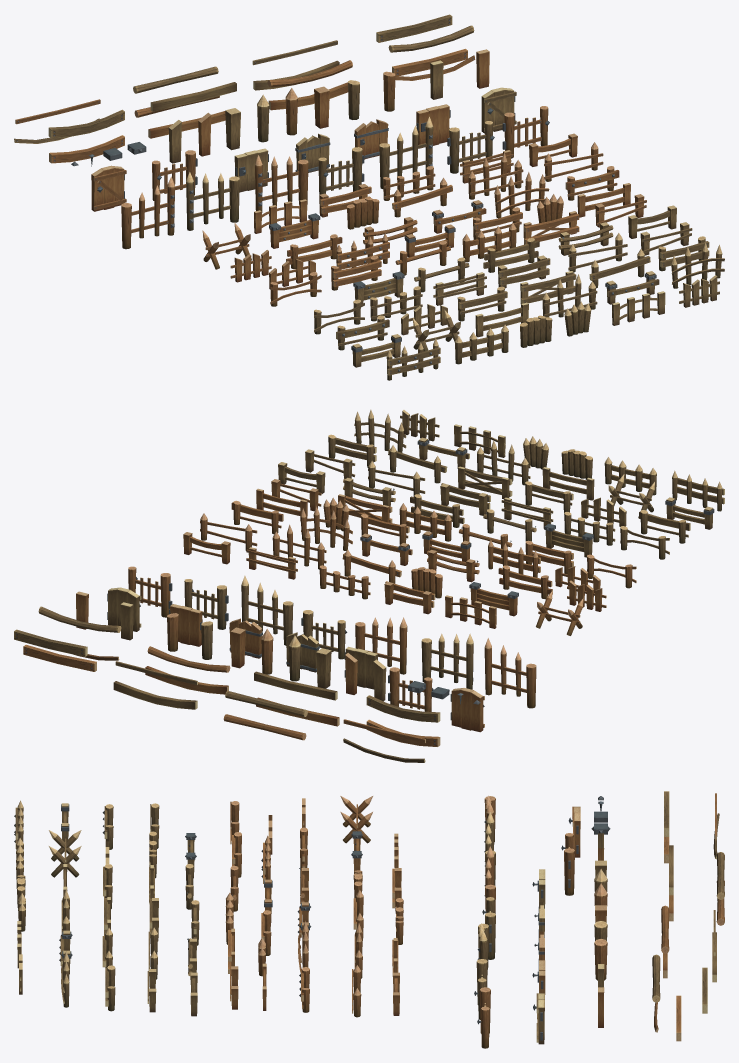
The model's file is Wooden.fbx.
3 renders of one model, top to bottom at view 1: azimuth 30°, elevation 25°; view 2: azimuth 150°, elevation 25°; view 3: azimuth 270°, elevation 25°, orthographic. The views are drawn at different scales.
Parts seen in each view (by area): view 1: 035_0_35, 026_0_26, 036_0_36, 039_0_39, 032_0_32, 037_0_37, 028_0_28, 027_0_27, 031_0_31, 044_0_44, 002_0_2, 033_0_33 (+67 smaller); view 2: 035_0_35, 026_0_26, 039_0_39, 036_0_36, 032_0_32, 028_0_28, 037_0_37, 044_0_44, 038_0_38, 033_0_33, 027_0_27, 051_0_51 (+70 smaller); view 3: 042_0_42, 043_0_43, 038_0_38, 037_0_37, 027_0_27, 036_0_36, 031_0_31, 017_0_17, 056_0_56, 032_0_32, 028_0_28, 026_0_26 (+1 smaller).
Part boxes in pixels (x1=…): 035_0_35: x1=121, y1=176, x2=174, y2=249; 026_0_26: x1=186, y1=172, x2=239, y2=230; 036_0_36: x1=255, y1=155, x2=308, y2=212; 039_0_39: x1=379, y1=116, x2=433, y2=188; 032_0_32: x1=91, y1=165, x2=126, y2=211; 037_0_37: x1=502, y1=106, x2=549, y2=158; 028_0_28: x1=447, y1=121, x2=494, y2=173; 027_0_27: x1=318, y1=147, x2=364, y2=194; 031_0_31: x1=481, y1=87, x2=516, y2=133; 044_0_44: x1=386, y1=338, x2=440, y2=380; 002_0_2: x1=455, y1=324, x2=508, y2=364; 033_0_33: x1=416, y1=104, x2=450, y2=148; 035_0_35: x1=484, y1=638, x2=536, y2=708; 026_0_26: x1=421, y1=633, x2=473, y2=689; 039_0_39: x1=241, y1=575, x2=293, y2=645; 036_0_36: x1=355, y1=617, x2=407, y2=674; 032_0_32: x1=450, y1=688, x2=484, y2=732; 028_0_28: x1=184, y1=579, x2=228, y2=629; 037_0_37: x1=128, y1=566, x2=172, y2=617; 044_0_44: x1=672, y1=470, x2=724, y2=511; 038_0_38: x1=388, y1=667, x2=433, y2=711; 033_0_33: x1=169, y1=604, x2=202, y2=646; 027_0_27: x1=301, y1=610, x2=347, y2=659; 051_0_51: x1=488, y1=539, x2=540, y2=577; 042_0_42: x1=49, y1=830, x2=81, y2=877; 043_0_43: x1=340, y1=796, x2=372, y2=843; 038_0_38: x1=561, y1=833, x2=574, y2=895; 037_0_37: x1=477, y1=987, x2=490, y2=1048; 027_0_27: x1=482, y1=897, x2=495, y2=959; 036_0_36: x1=484, y1=846, x2=495, y2=913; 031_0_31: x1=533, y1=993, x2=544, y2=1044; 017_0_17: x1=105, y1=965, x2=115, y2=1011; 056_0_56: x1=352, y1=965, x2=361, y2=1017; 032_0_32: x1=568, y1=806, x2=580, y2=857; 028_0_28: x1=474, y1=959, x2=487, y2=1019; 026_0_26: x1=484, y1=812, x2=495, y2=885.
Bounding box in the file's own units: 15281 × 2260 × 20983.
